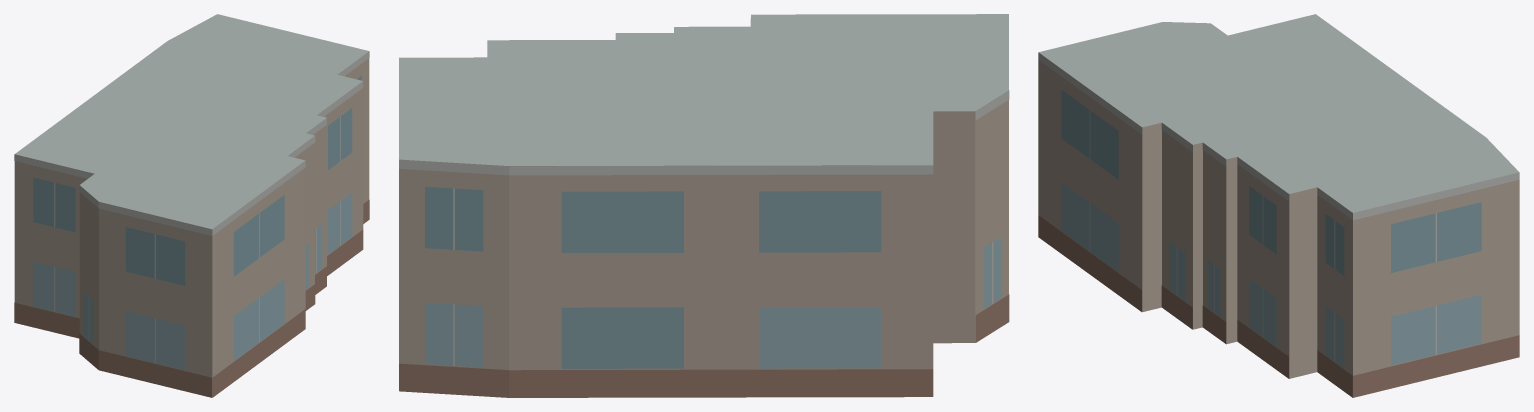
Rendered from survey-upis-32686445.glb.
The picture shows the model from 3 angles, left to right: view 1: azimuth 30°, elevation 25°; view 2: azimuth 150°, elevation 25°; view 3: azimuth 270°, elevation 25°; orthographic projection. The views are drawn at different scales.
Visible parts, largest first — view 1: survey-upis-32686445.tmp; view 2: survey-upis-32686445.tmp; view 3: survey-upis-32686445.tmp.
Boxes of the visible parts, bbox=[...] form: survey-upis-32686445.tmp: bbox=[14, 14, 369, 397]; survey-upis-32686445.tmp: bbox=[399, 14, 1009, 397]; survey-upis-32686445.tmp: bbox=[1038, 14, 1519, 397].
Size of the model in its own units: 14.09 by 6.1 by 14.4.
